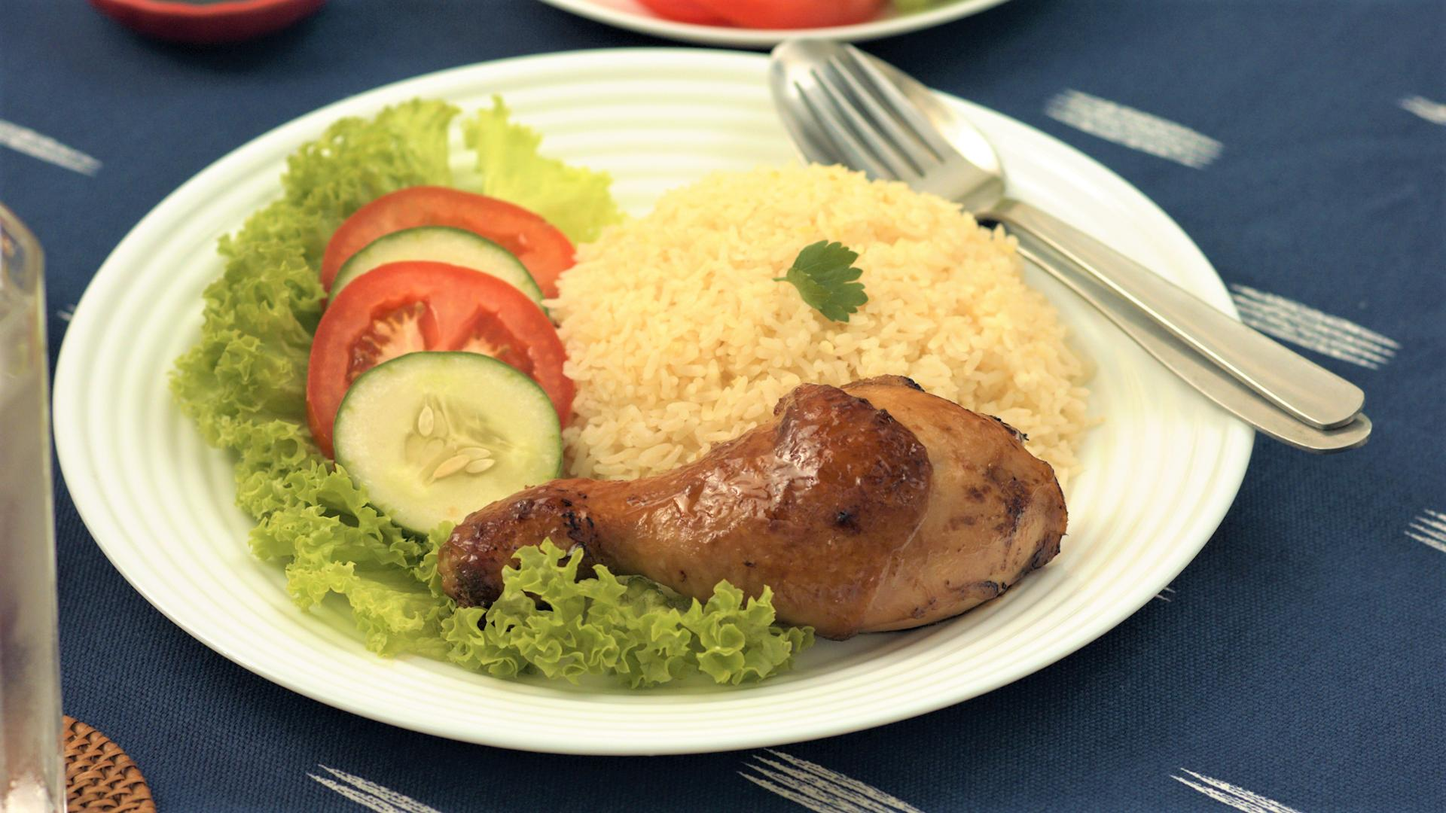buah_sayur_lainnya: (361, 380, 529, 476), (220, 275, 280, 452)
buah_sayur_vitA: (347, 293, 509, 349)
daging: (686, 456, 1011, 566)
makanan_berpati: (658, 222, 782, 362)
